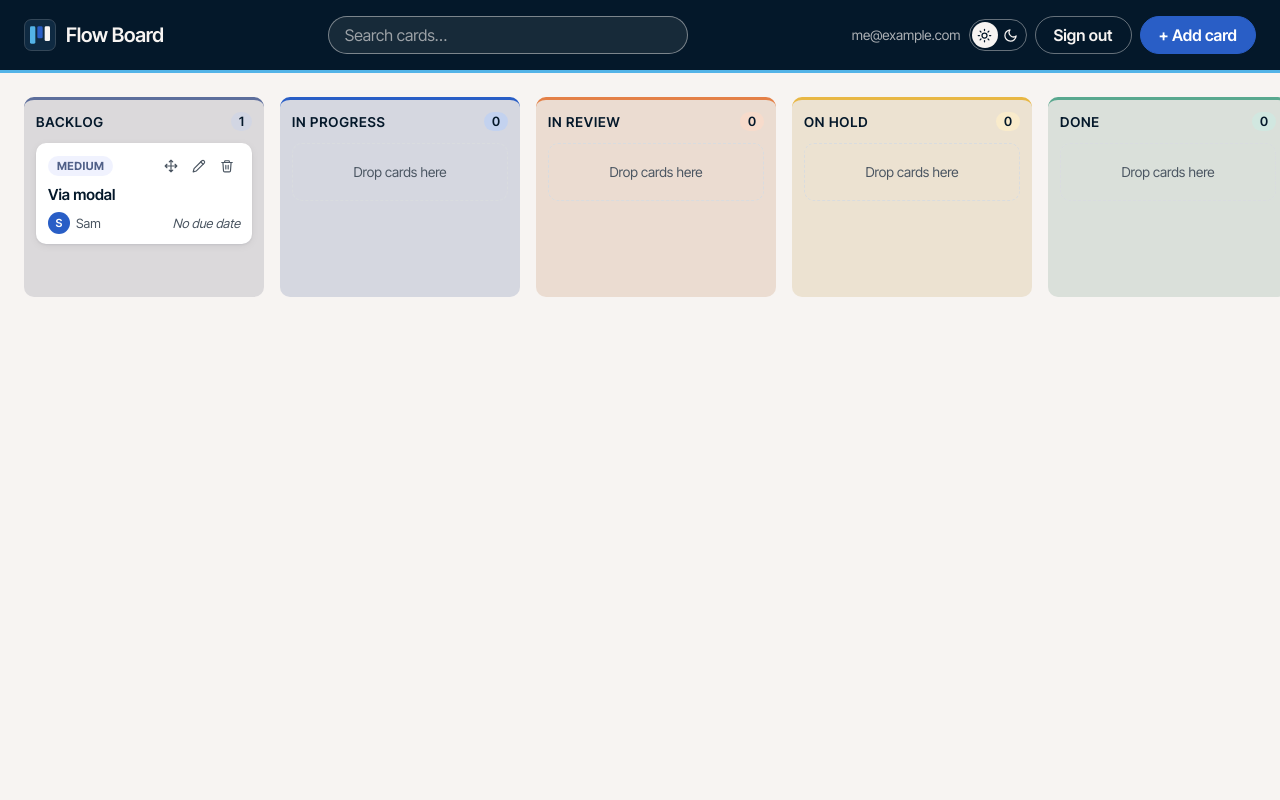
Board: deleting cards (Undo toast) › deletes from the edit modal too
Click the button named "Edit Via modal": click(199, 166) [186,153,212,179]
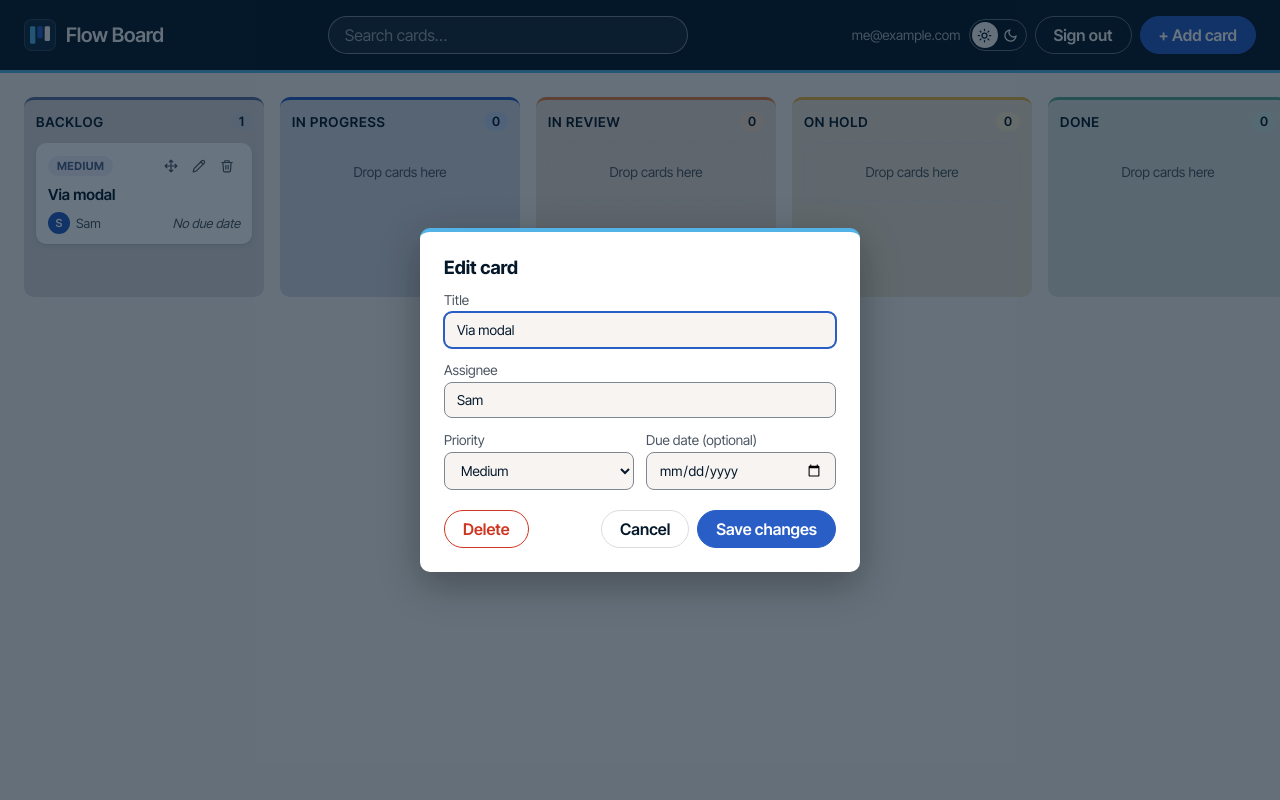
Click the button "Delete": click(486, 529) [444,510,528,548]
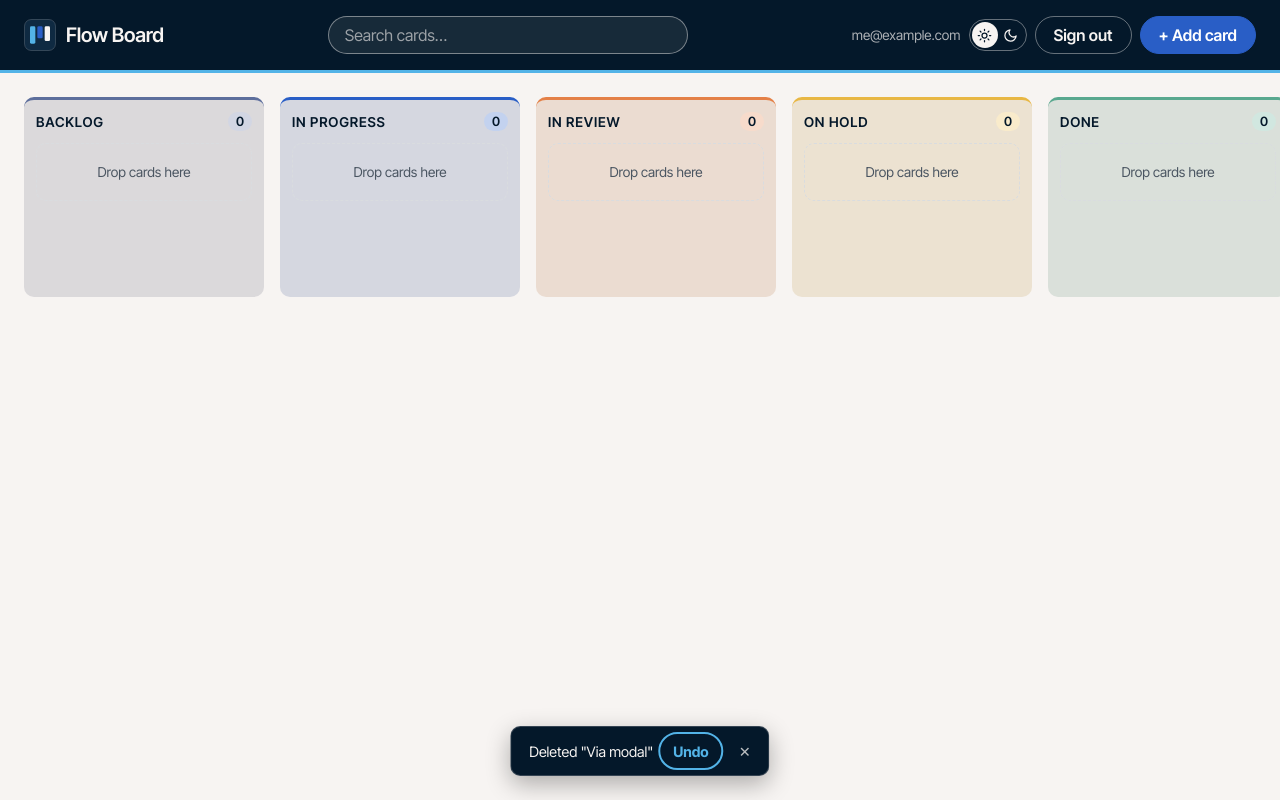
Expected: the dialog is gone
Expected: the message shows "Deleted \"Via modal\"", [529,742,653,760]
